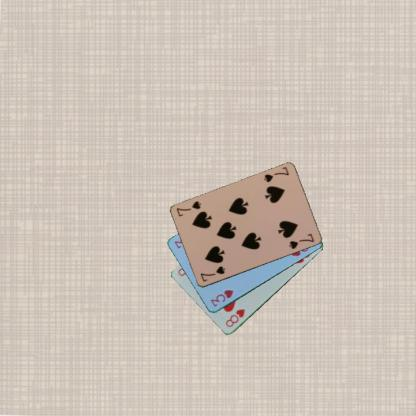3h: (208, 286, 235, 308)
7s: (261, 165, 290, 184), (198, 264, 226, 283)
8h: (223, 306, 246, 329)
